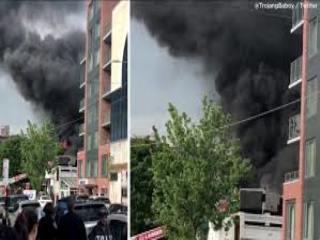fire: (60, 138, 70, 150)
smoke: (210, 10, 296, 169), (6, 21, 88, 151)
